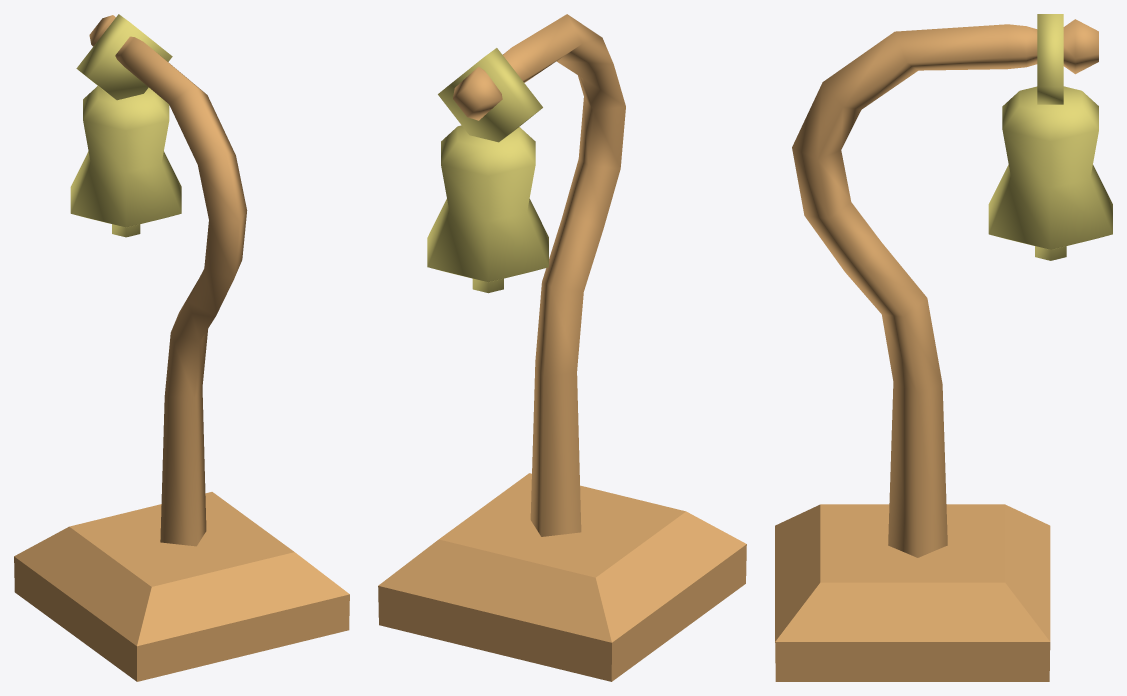
Rendered from changing screen bell stand.fbx.
The picture shows the model from 3 angles, left to right: view 1: azimuth 30°, elevation 25°; view 2: azimuth 150°, elevation 25°; view 3: azimuth 270°, elevation 25°; orthographic projection. The views are drawn at different scales.
Parts seen in each view (by area): view 1: changing screen bell stand, changing screen bell; view 2: changing screen bell stand, changing screen bell; view 3: changing screen bell stand, changing screen bell.
Part boxes in pixels (x1=…): changing screen bell stand: x1=14, y1=15, x2=349, y2=681; changing screen bell: x1=70, y1=14, x2=181, y2=237; changing screen bell stand: x1=378, y1=14, x2=746, y2=681; changing screen bell: x1=427, y1=48, x2=548, y2=293; changing screen bell stand: x1=775, y1=19, x2=1098, y2=681; changing screen bell: x1=988, y1=14, x2=1112, y2=260.
Bounding box in the file's own units: 0.9428 × 2.43 × 1.16.
Materials: 1 (1 with a texture image).
